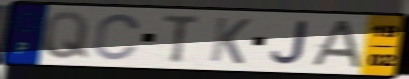A: (305, 19, 365, 70)
C: (91, 12, 143, 63)
J: (268, 20, 309, 66)
K: (207, 15, 253, 66)
Q: (40, 9, 91, 61)
T: (161, 13, 203, 65)
